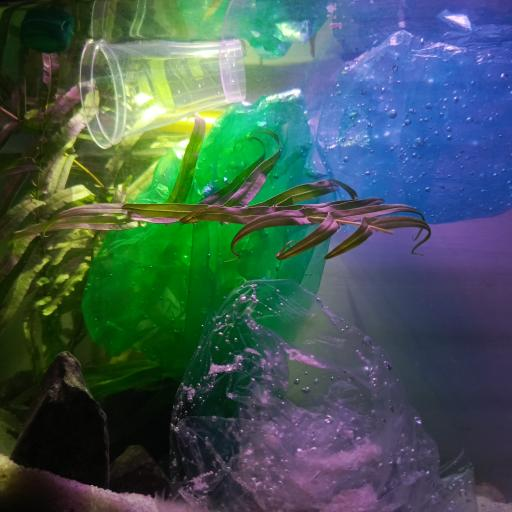bottle_cap: (20, 19, 69, 53)
plastic_bag: (165, 278, 480, 512), (81, 88, 331, 382), (299, 19, 512, 231)
plastic_cup: (79, 36, 249, 148)
